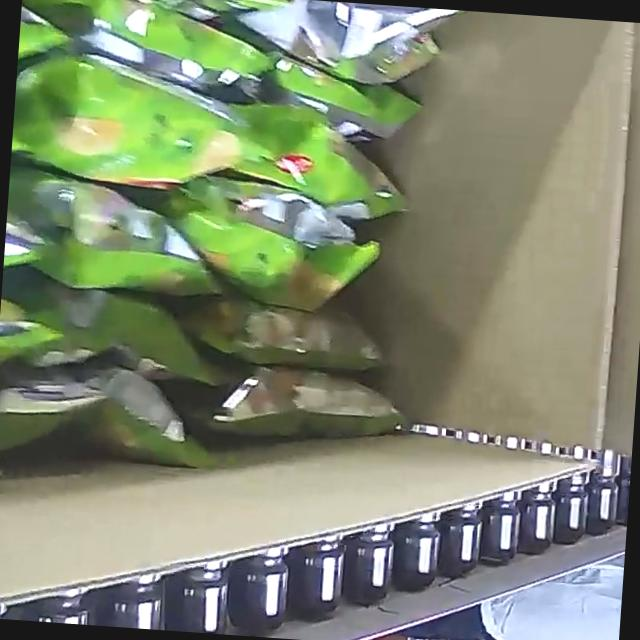yogurt: (0, 0, 489, 528)
